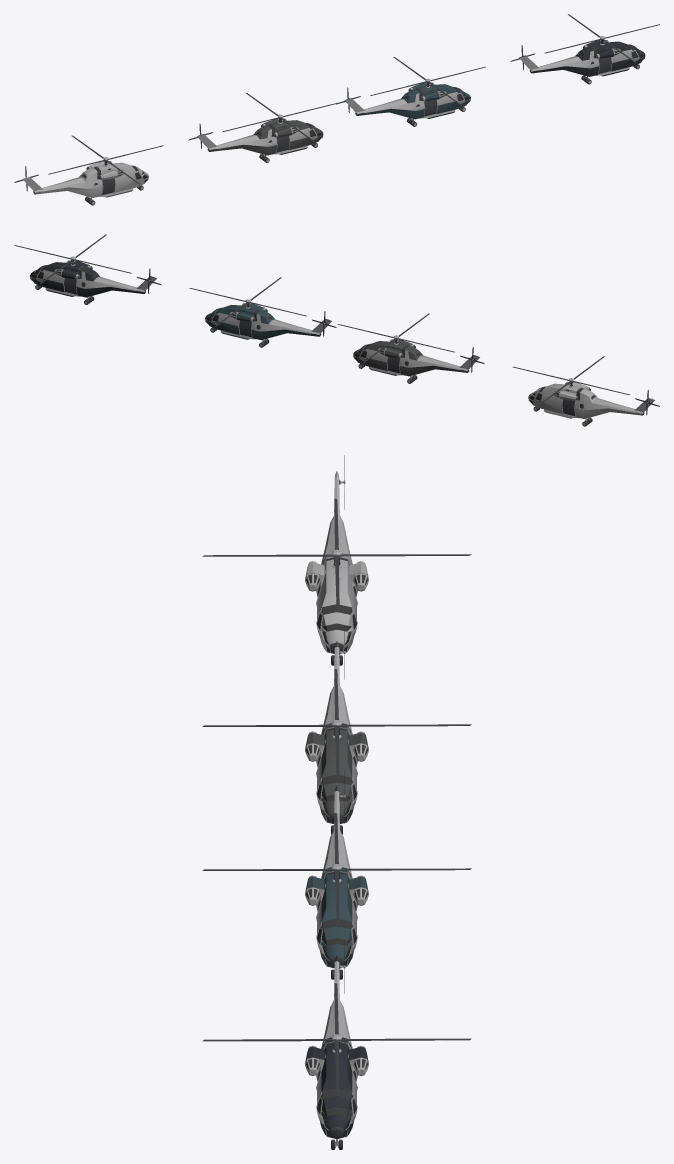
Rendered from FireFighting Helicopters.fbx.
3 views of the same model, one above another, from view 1: azimuth 30°, elevation 25°; view 2: azimuth 150°, elevation 25°; view 3: azimuth 270°, elevation 25° (orthographic). The views are drawn at different scales.
Visible parts, largest first — view 1: Fighting Helicopter Gree, Fighting Helicopter, Fighting Helicopter Blue, Fighting Helicopter Black, Cube.034, Cube.005, Cube.042, Cube.004; view 2: Fighting Helicopter Black, Fighting Helicopter, Fighting Helicopter Blue, Fighting Helicopter Gree, Cube.042, Cube.004, Cube.005, Cube.034; view 3: Fighting Helicopter Black, Fighting Helicopter, Fighting Helicopter Blue, Fighting Helicopter Gree, Cube.042, Cube.005, Cube.004, Cube.034.
Part boxes in pixels (x1,y1,x2,y2): Fighting Helicopter Gree: [197, 118, 323, 157]; Fighting Helicopter: [22, 161, 148, 200]; Fighting Helicopter Blue: [344, 82, 470, 121]; Fighting Helicopter Black: [519, 40, 645, 79]; Cube.034: [370, 57, 485, 105]; Cube.005: [48, 135, 163, 184]; Cube.042: [544, 14, 659, 63]; Cube.004: [222, 93, 337, 141]; Fighting Helicopter Black: [30, 260, 156, 300]; Fighting Helicopter: [528, 382, 654, 421]; Fighting Helicopter Blue: [205, 303, 331, 342]; Fighting Helicopter Gree: [353, 339, 479, 378]; Cube.042: [14, 234, 131, 284]; Cube.004: [337, 313, 454, 362]; Cube.005: [512, 356, 630, 405]; Cube.034: [189, 277, 306, 326]; Fighting Helicopter Black: [305, 956, 368, 1146]; Fighting Helicopter: [305, 471, 368, 653]; Fighting Helicopter Blue: [305, 785, 368, 968]; Fighting Helicopter Gree: [305, 641, 368, 823]; Cube.042: [202, 983, 471, 1096]; Cube.005: [202, 498, 471, 612]; Cube.004: [202, 668, 471, 782]; Cube.034: [202, 813, 471, 926].
Bounding box in the file's own units: 48.06 × 3.64 × 8.69.
